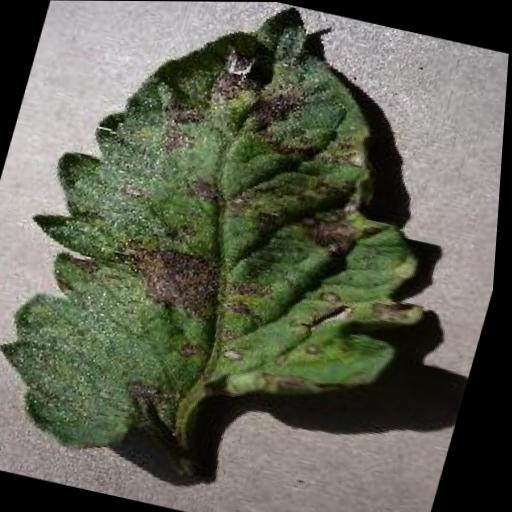Early Blight: (0, 0, 498, 510)
